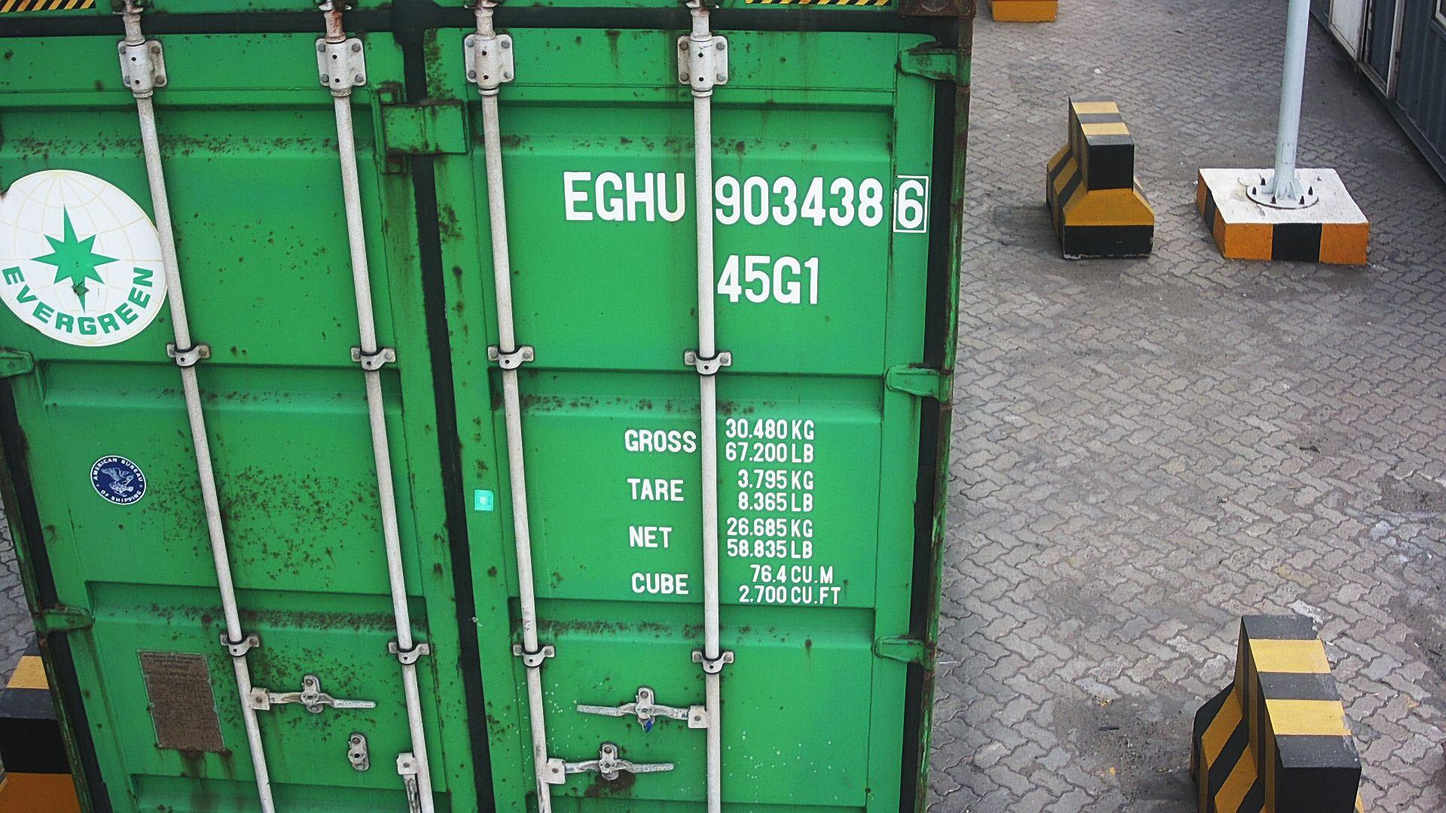container-numbers: (557, 166, 935, 236), (711, 251, 826, 309)
